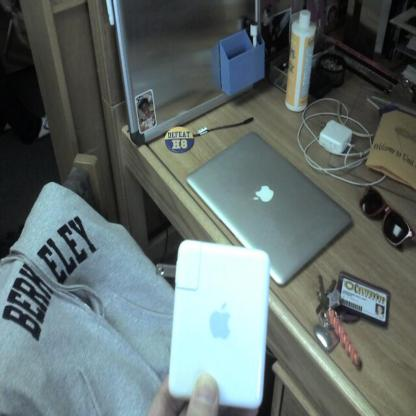board: (184, 112, 354, 288), (284, 7, 319, 115)
